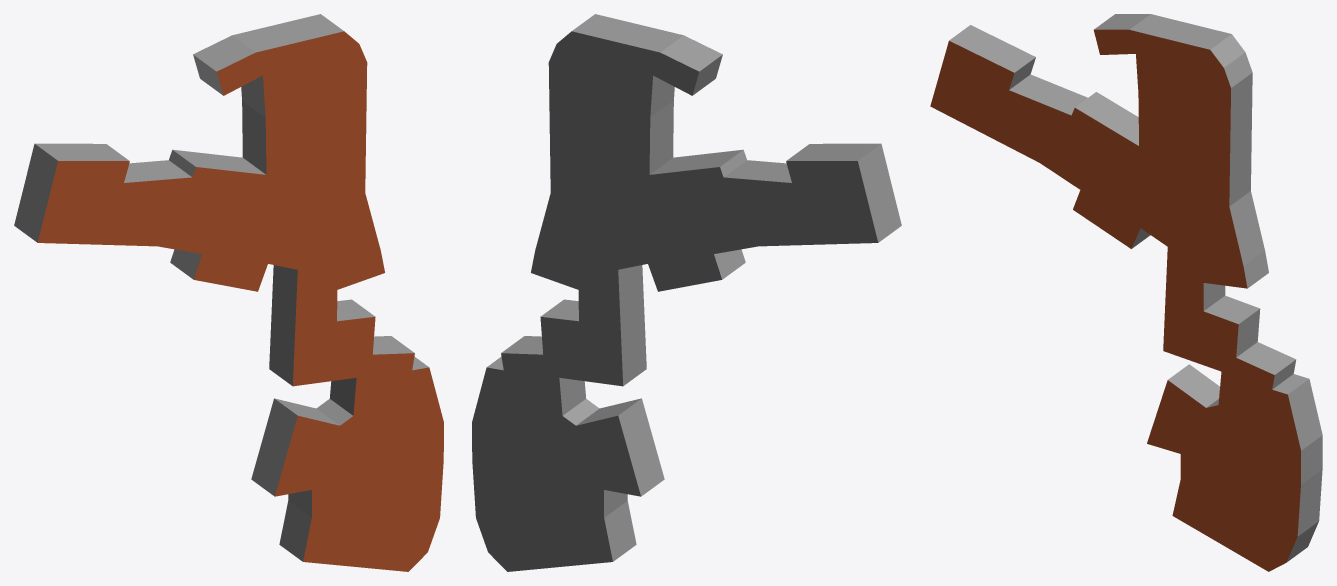
File: construction_6352_assumed_A_Casa_h6m.obj
The picture shows the model from 3 angles, left to right: view 1: azimuth 30°, elevation 25°; view 2: azimuth 150°, elevation 25°; view 3: azimuth 330°, elevation 25°; orthographic projection. The views are drawn at different scales.
Visible parts, largest first — view 1: construction_6352_assumed_A_Casa; view 2: construction_6352_assumed_A_Casa; view 3: construction_6352_assumed_A_Casa.
Boxes of the visible parts, x1,y1,x2,y2 form: construction_6352_assumed_A_Casa: [14, 14, 443, 571]; construction_6352_assumed_A_Casa: [472, 14, 901, 571]; construction_6352_assumed_A_Casa: [930, 14, 1322, 571].
Size of the model in its own units: 59.59 by 78.02 by 6.
